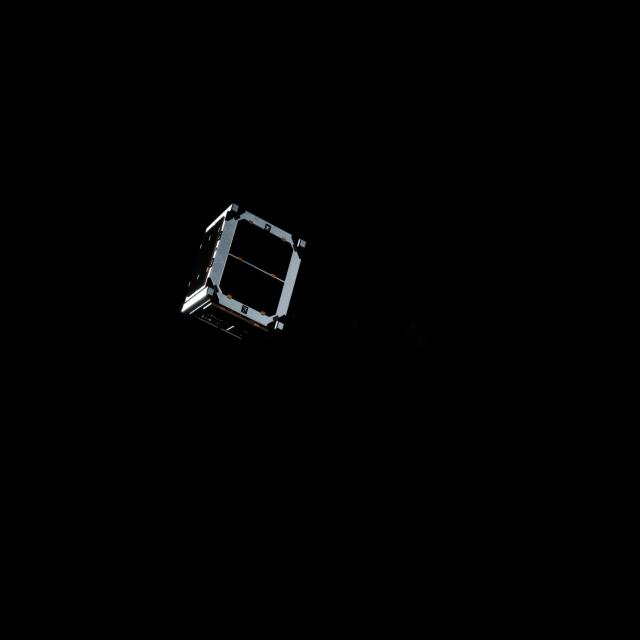medium_debris: (172, 203, 312, 350)
